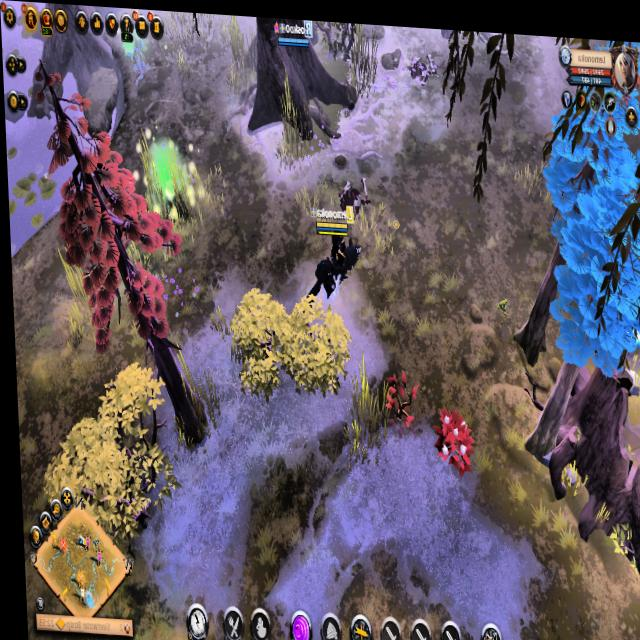fiber tier 5: (428, 398, 472, 467)
